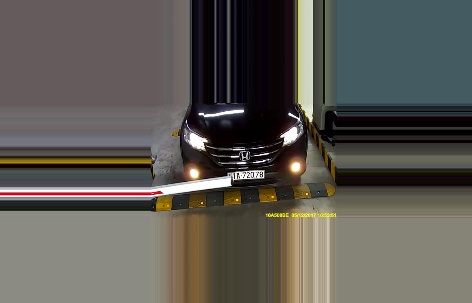plate: (225, 169, 268, 180)
